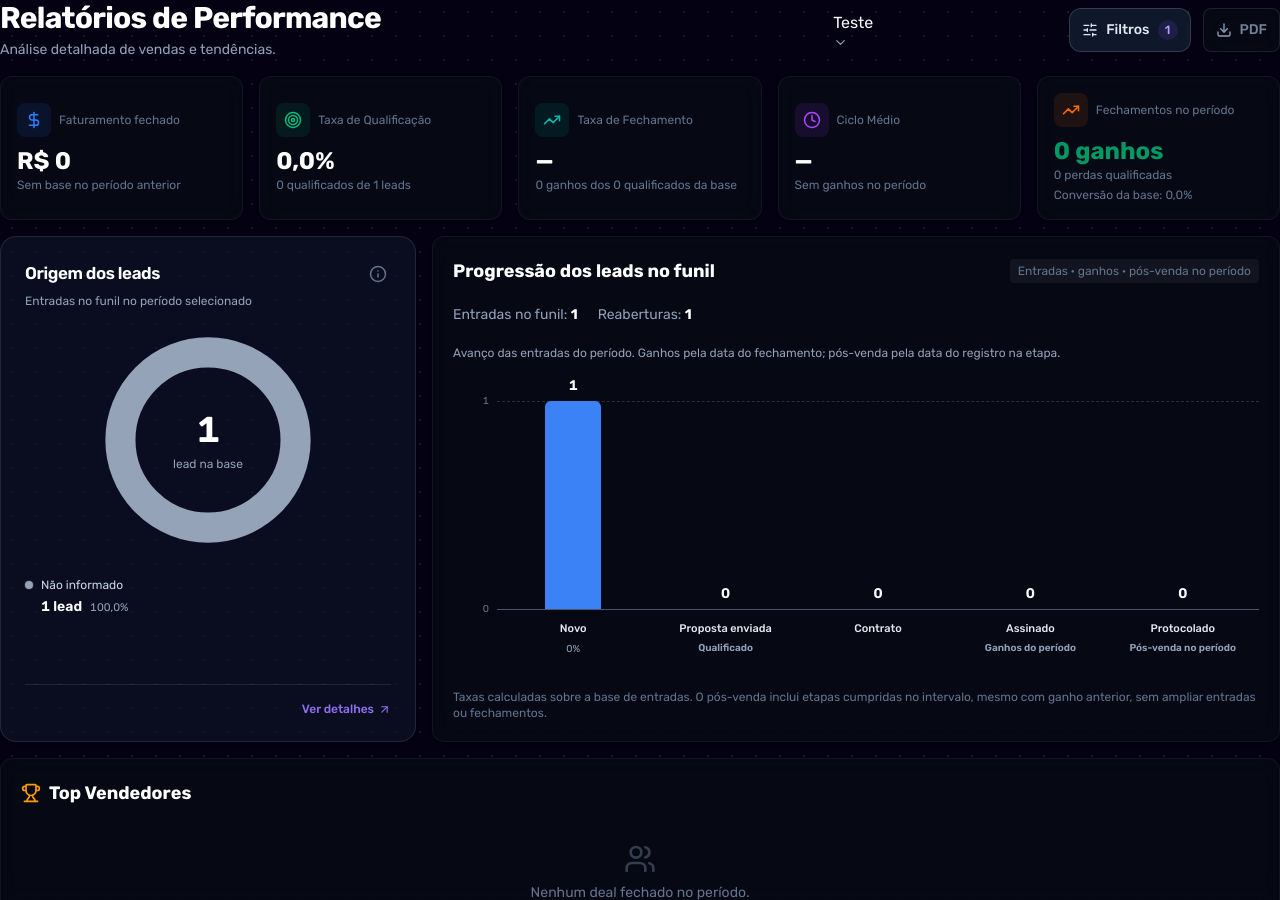
Test: tela Performance › mantém entradas e reaberturas detalháveis junto das etapas, sem avisos no cabeçalho
The image size is (1280, 900).
Click the button "Entradas no funil: 1" at (515, 315), box [453,301,578,329]
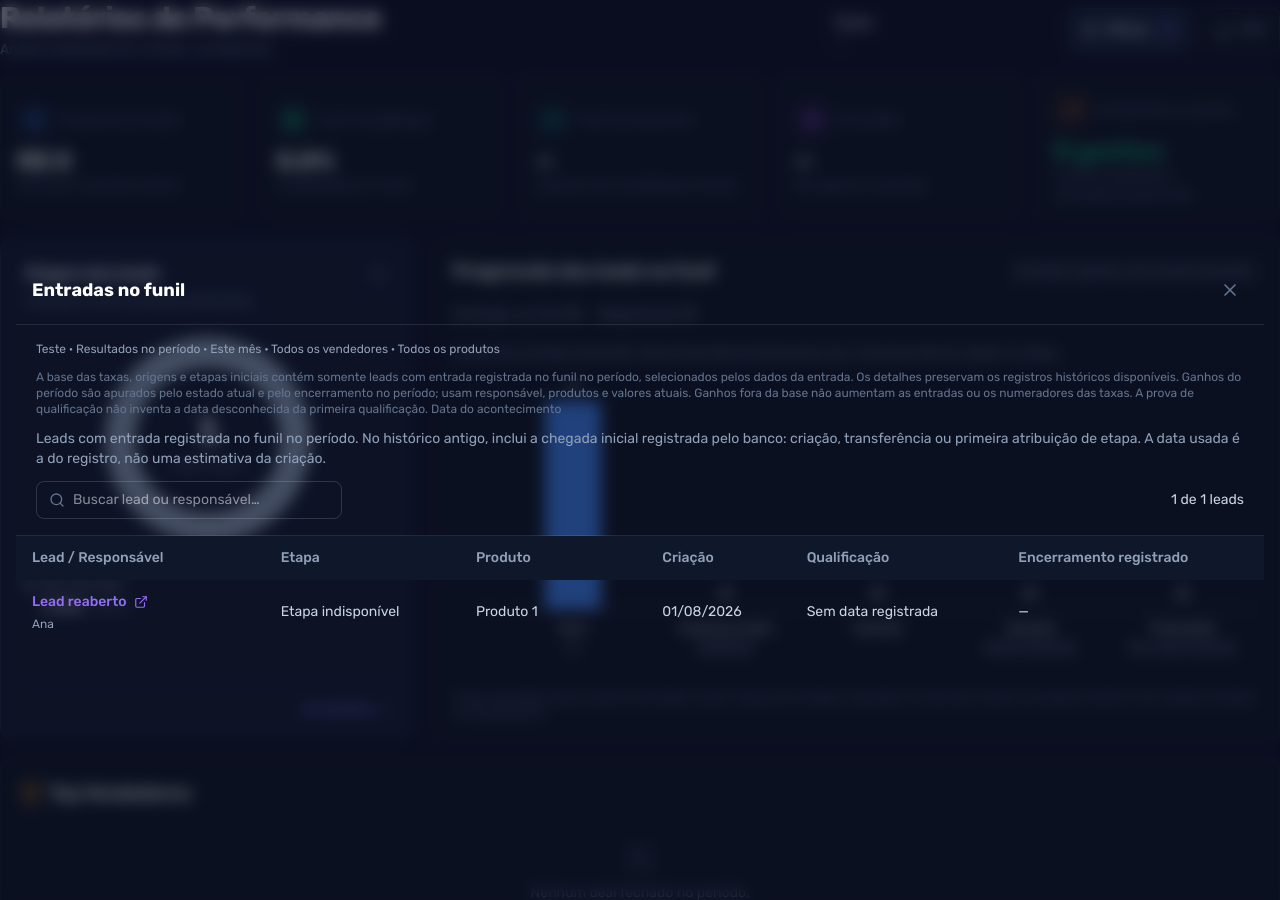
Result: the link "Lead reaberto" is shown at [32,592,148,612]
Click the button named "Fechar" at (1230, 290), box [1212,272,1248,308]
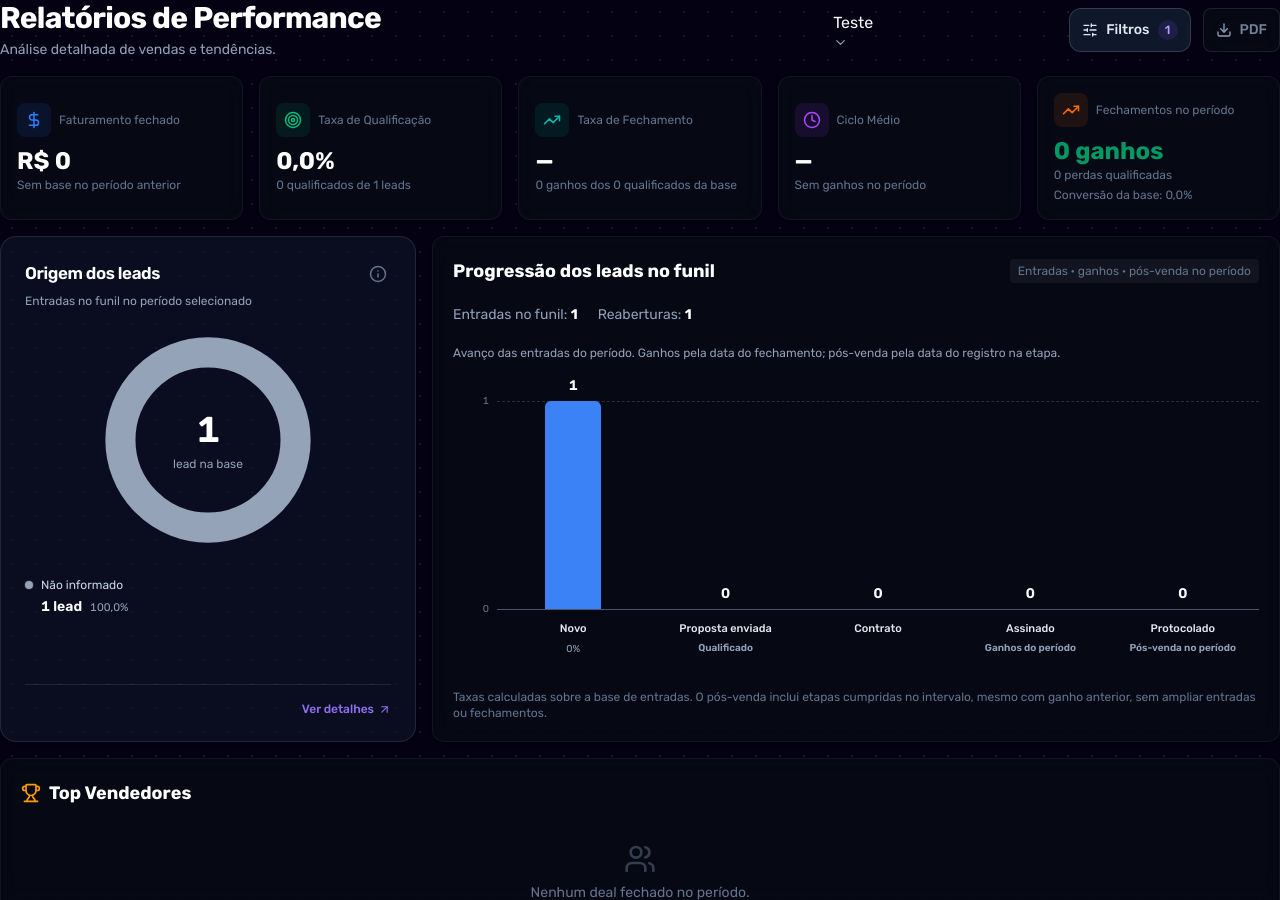
Click the button "Reaberturas: 1" at (645, 315), box [598,301,692,329]
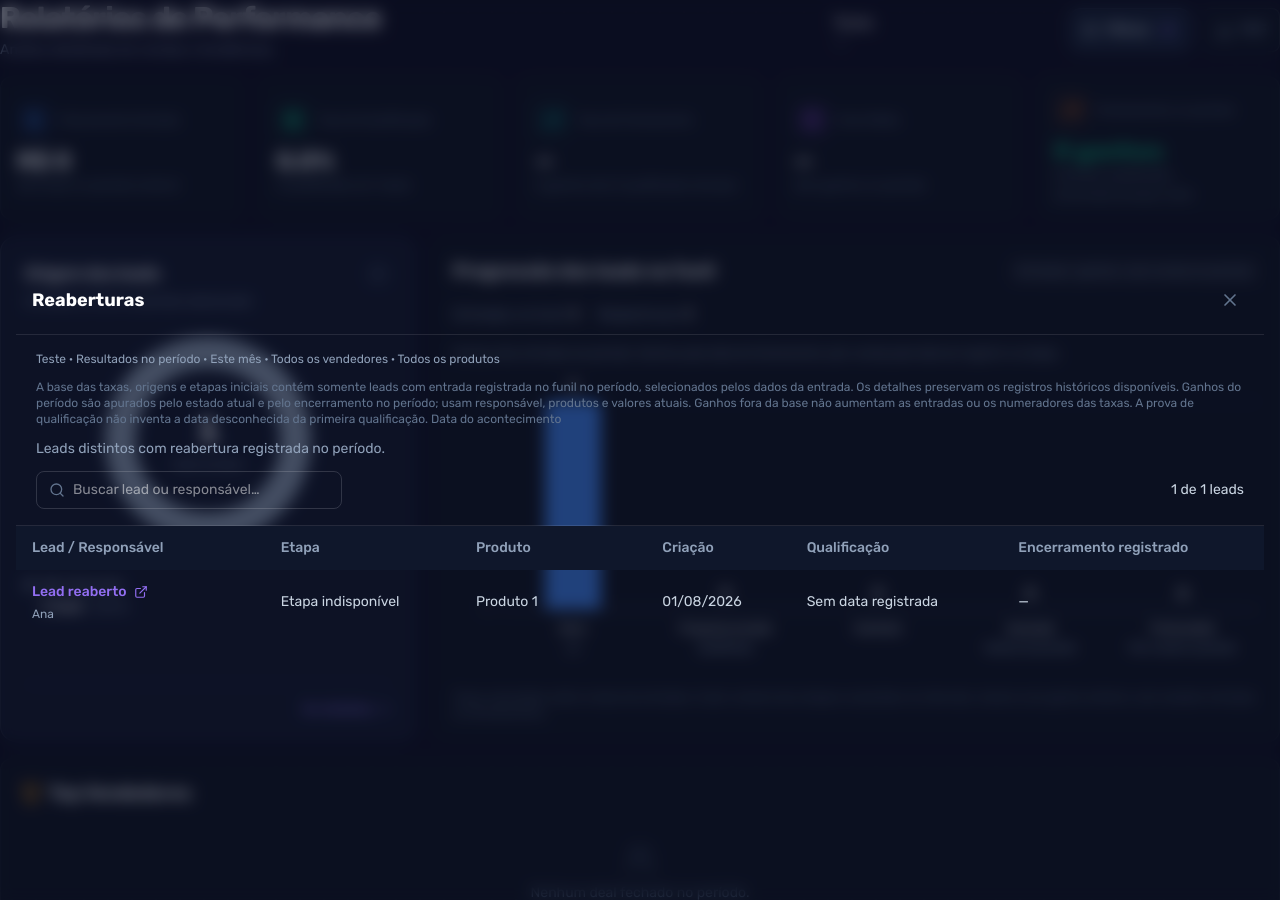
Result: the link "Lead reaberto" is shown at [32,582,148,602]
Click the button named "Fechar" at (1230, 300), box [1212,282,1248,318]
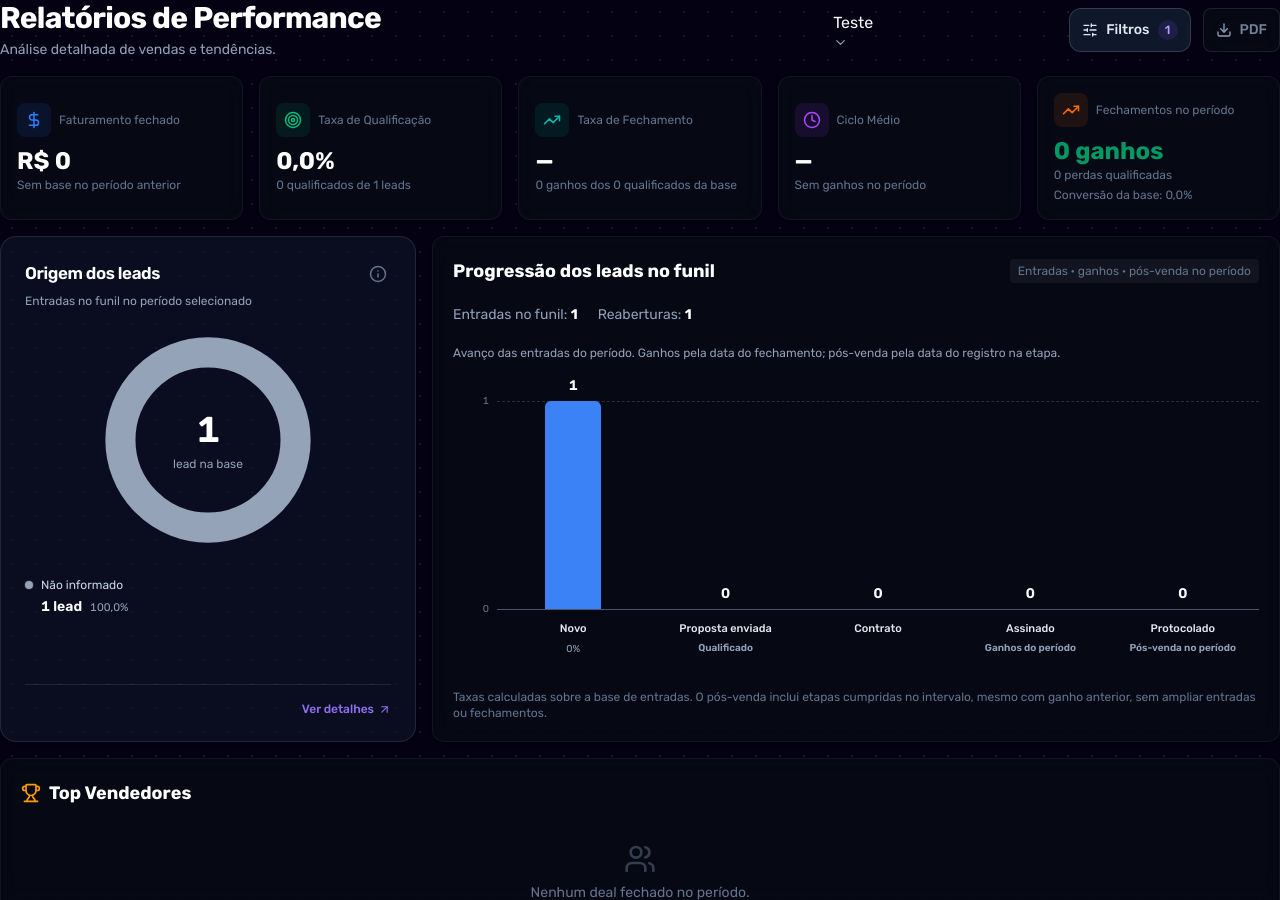
Click the button "Filtros 1" at (1130, 30), box [1069,8,1190,52]
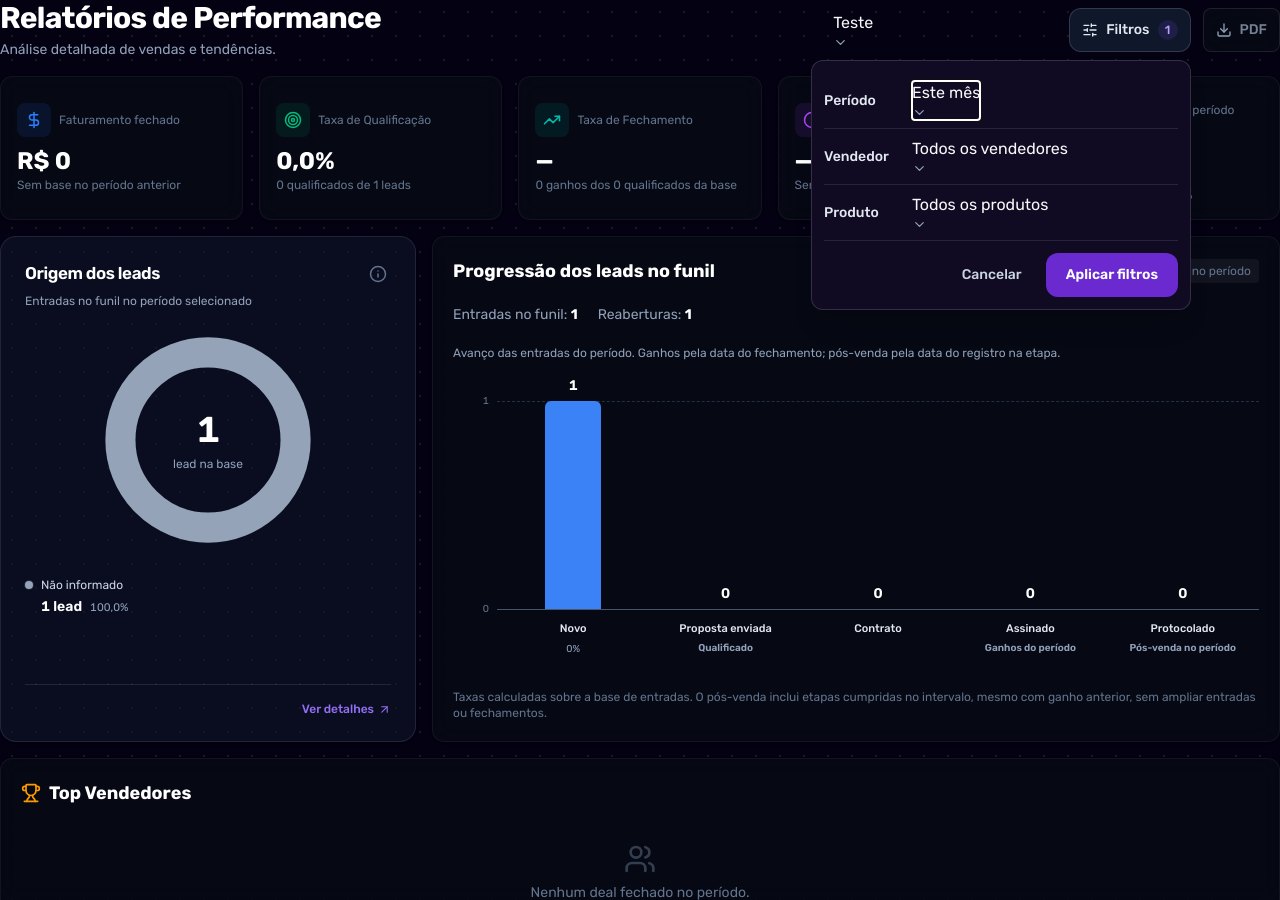
Result: the text "Período" is shown at [824,92,876,108]
